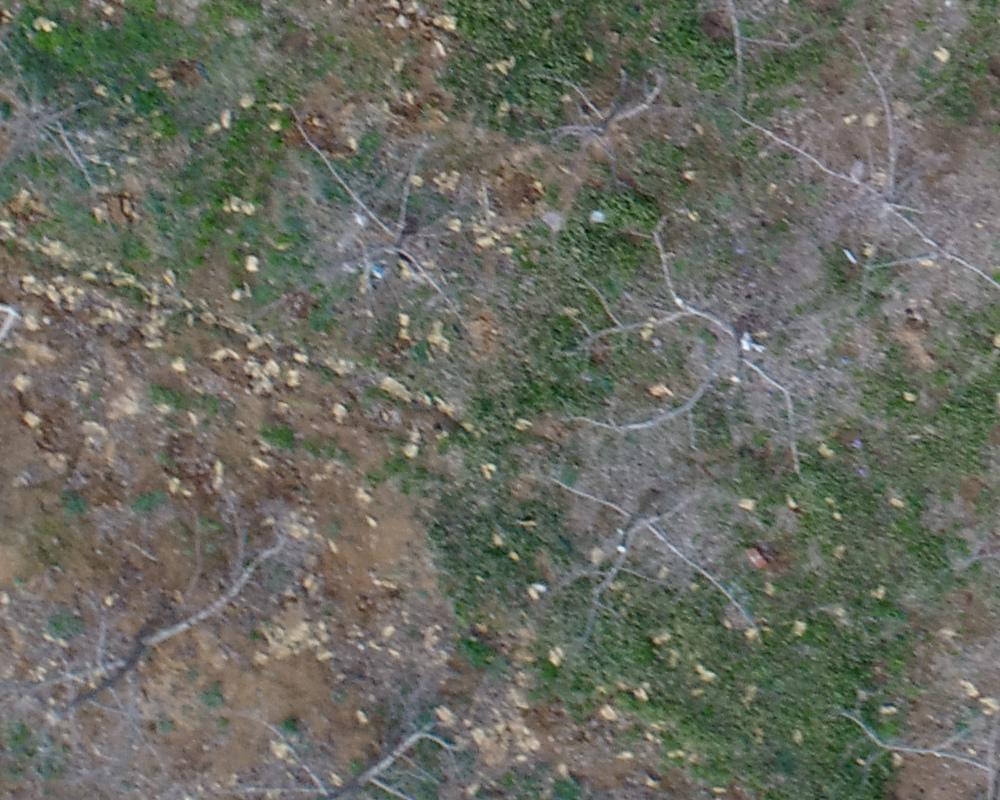apple: (699, 35, 990, 323), (528, 203, 823, 482), (10, 506, 304, 742), (269, 107, 501, 348), (517, 467, 767, 665), (214, 691, 531, 790), (10, 32, 152, 195)
